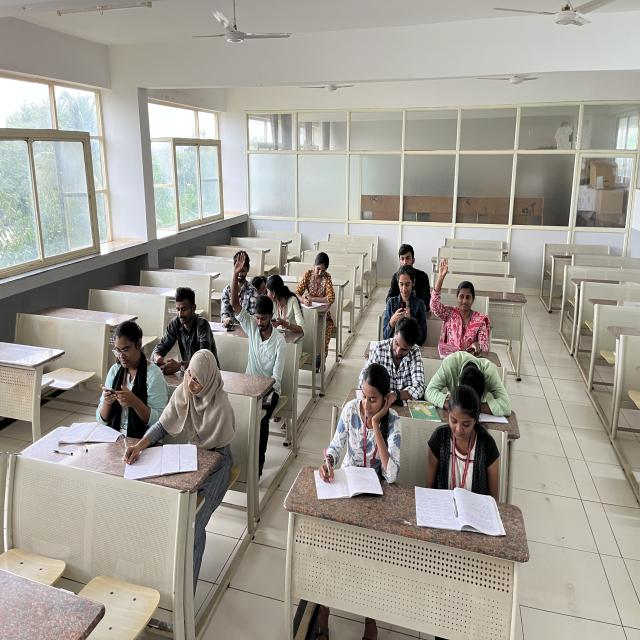Hand Rising: (227, 249, 286, 372), (428, 256, 486, 342)
Reading: (412, 394, 502, 518), (292, 250, 341, 310)
Sleeping: (428, 345, 515, 416)
Using Phone: (97, 323, 163, 426), (155, 283, 219, 375), (377, 272, 427, 331)
Writing: (124, 353, 236, 476), (311, 355, 406, 483)
